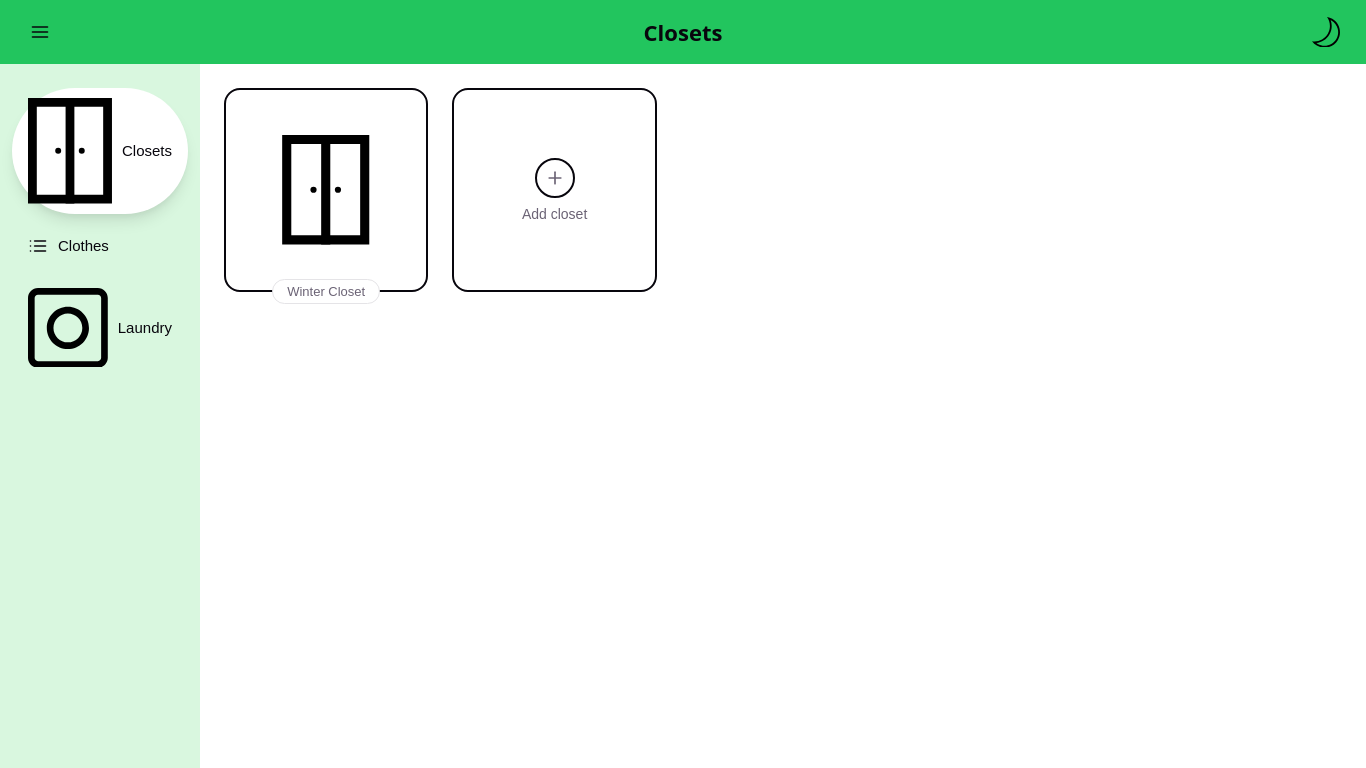
Scenario: App navigation › the hamburger button shows/hides the sidebar
Expected: the button "Clothes" is shown, [12, 226, 188, 266]
Click the button named "Hide sidebar".
click(40, 32)  # box [20, 12, 60, 52]
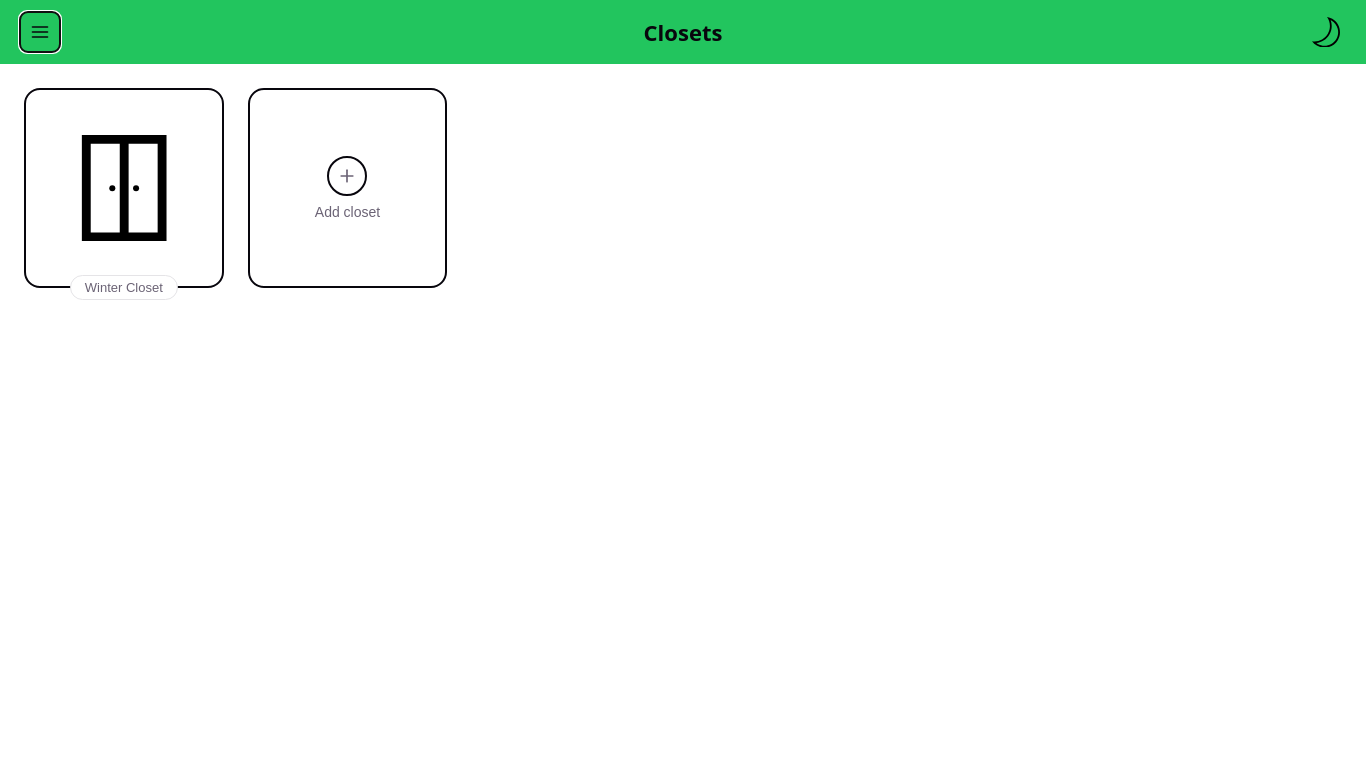
Result: the button "Clothes" is gone
Click the button named "Show sidebar".
click(40, 32)  # box [20, 12, 60, 52]
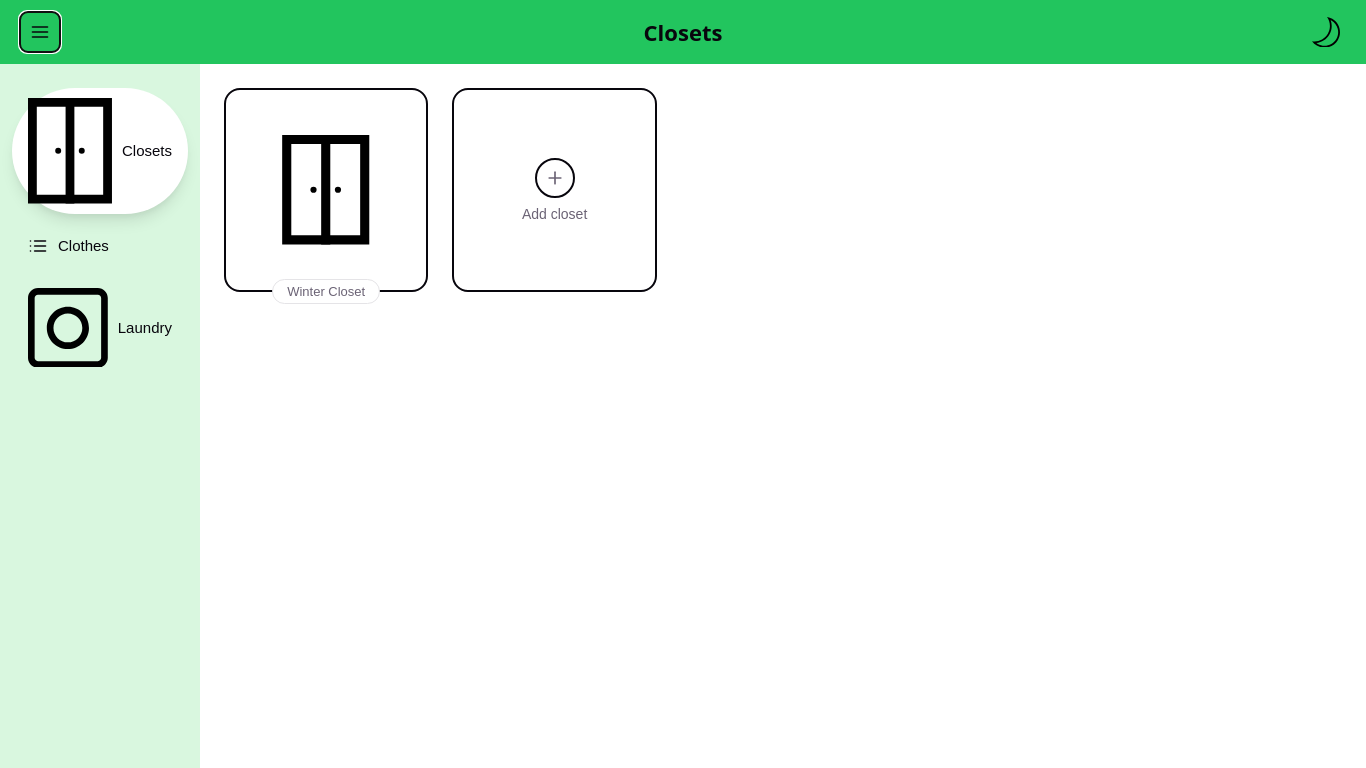
Result: the button "Clothes" is shown at [12, 226, 188, 266]
